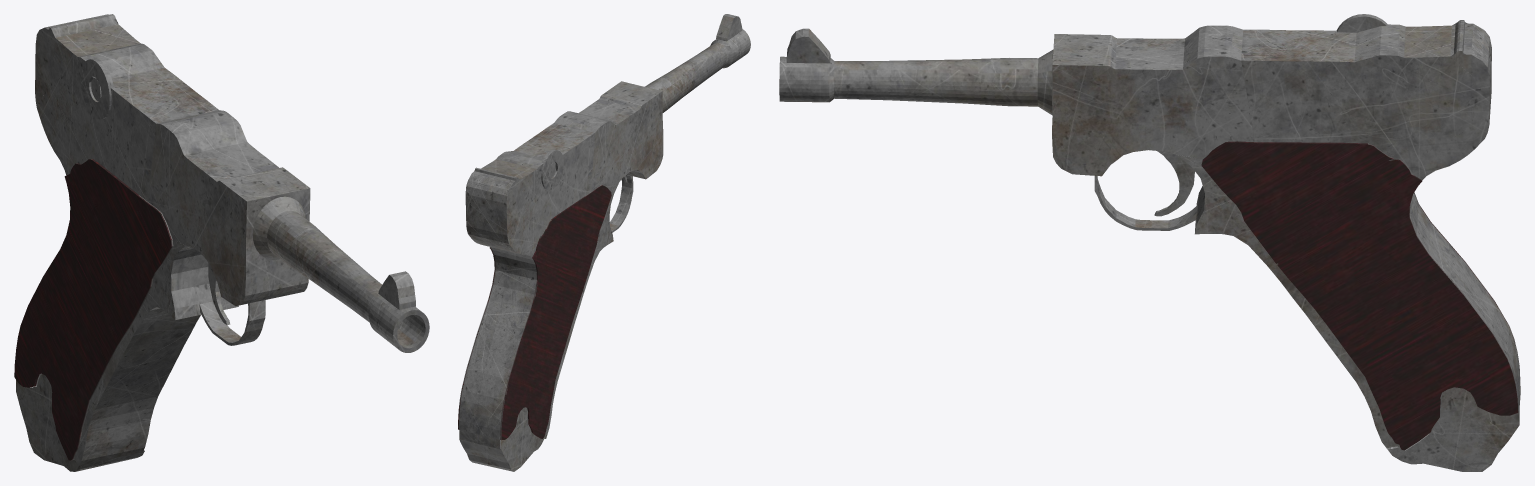
File: lugerp08.fbx
3 renders of one model, left to right at view 1: azimuth 30°, elevation 25°; view 2: azimuth 150°, elevation 25°; view 3: azimuth 270°, elevation 25°, orthographic. The views are drawn at different scales.
Visible parts, largest first — view 1: Ammo.001, Ammo, Ammo.002; view 2: Ammo.001, Ammo, Ammo.002; view 3: Ammo.001, Ammo, Ammo.002.
Part boxes in pixels (x1,y1,x2,y2): Ammo.001: [35, 14, 429, 469]; Ammo: [14, 159, 173, 460]; Ammo.002: [16, 374, 144, 471]; Ammo.001: [459, 14, 750, 448]; Ammo: [458, 185, 611, 439]; Ammo.002: [459, 407, 545, 471]; Ammo.001: [779, 14, 1520, 449]; Ammo: [1201, 141, 1520, 450]; Ammo.002: [1388, 387, 1519, 471].
Size of the model in its own units: 3.67 by 20.37 by 31.9.
